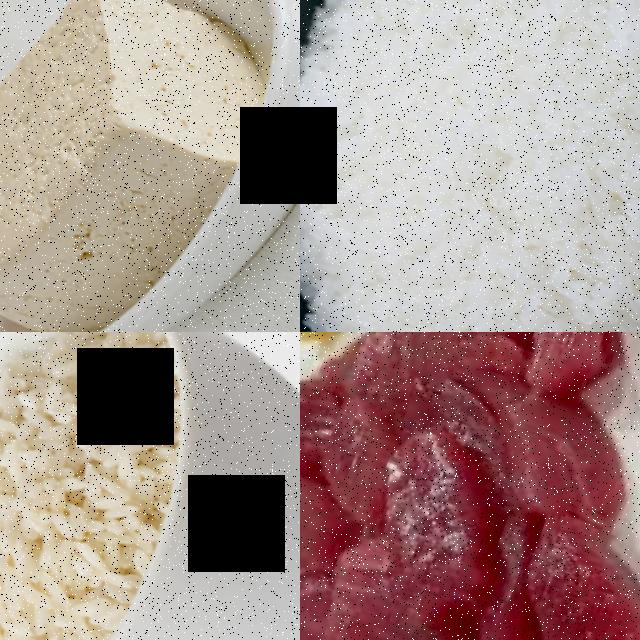tofu: (0, 0, 229, 332)
tuna: (321, 412, 544, 640), (459, 501, 640, 640), (487, 332, 640, 420)
white rice: (300, 0, 640, 332), (0, 332, 210, 640)
